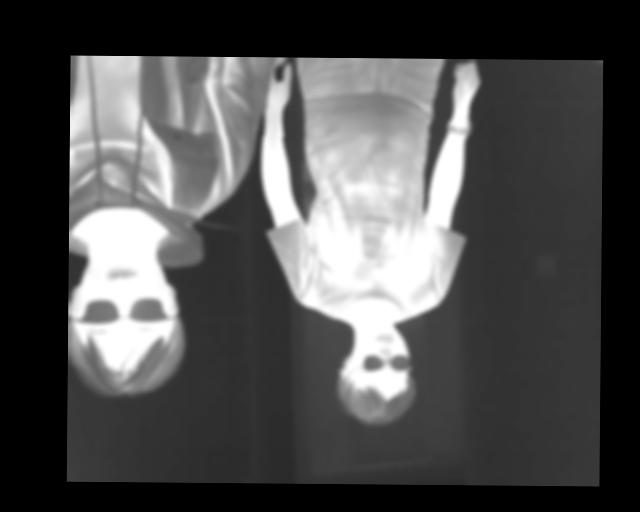face: (68, 241, 183, 400), (337, 322, 416, 426)
